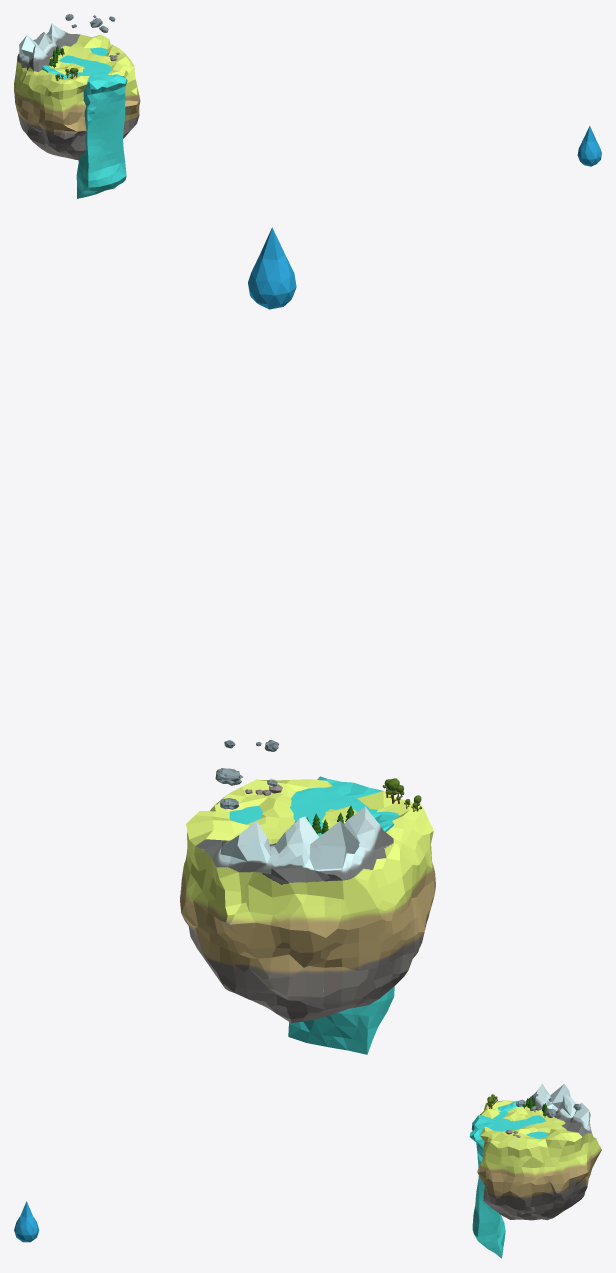
Rendered from iara.gltf.
The picture shows the model from 3 angles, top to bottom: view 1: azimuth 30°, elevation 25°; view 2: azimuth 150°, elevation 25°; view 3: azimuth 270°, elevation 25°; orthographic projection. The views are drawn at different scales.
Visible parts, largest first — view 1: Terreno, Agua, Gota; view 2: Terreno, Agua, Gota; view 3: Terreno, Agua, Gota.
Part boxes in pixels (x1,y1,x2,y2): Terreno: (14, 23, 140, 160); Agua: (42, 47, 127, 198); Gota: (577, 126, 601, 166); Terreno: (180, 778, 435, 1023); Agua: (229, 776, 399, 1054); Gota: (248, 227, 296, 309); Terreno: (477, 1083, 601, 1220); Agua: (469, 1100, 548, 1258); Gota: (14, 1201, 39, 1242).
Bounding box in the file's own units: 30.45 × 15.57 × 46.4.
9 materials, 3 textured.
